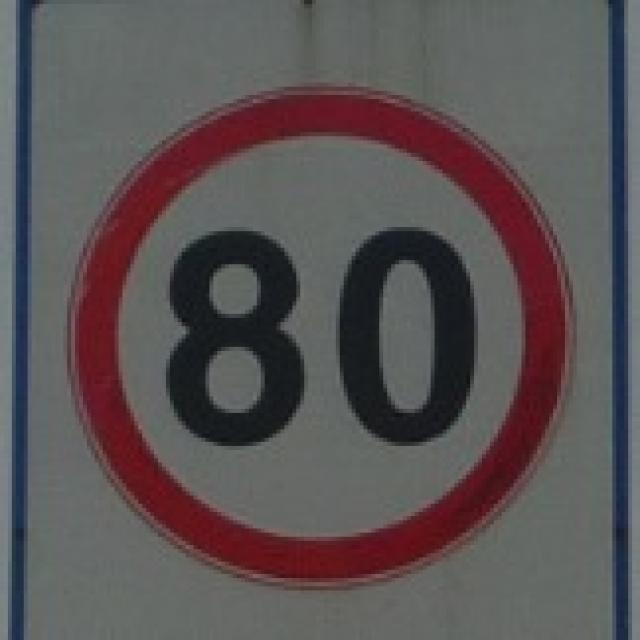Speed Limit -80-: (162, 223, 480, 455)
